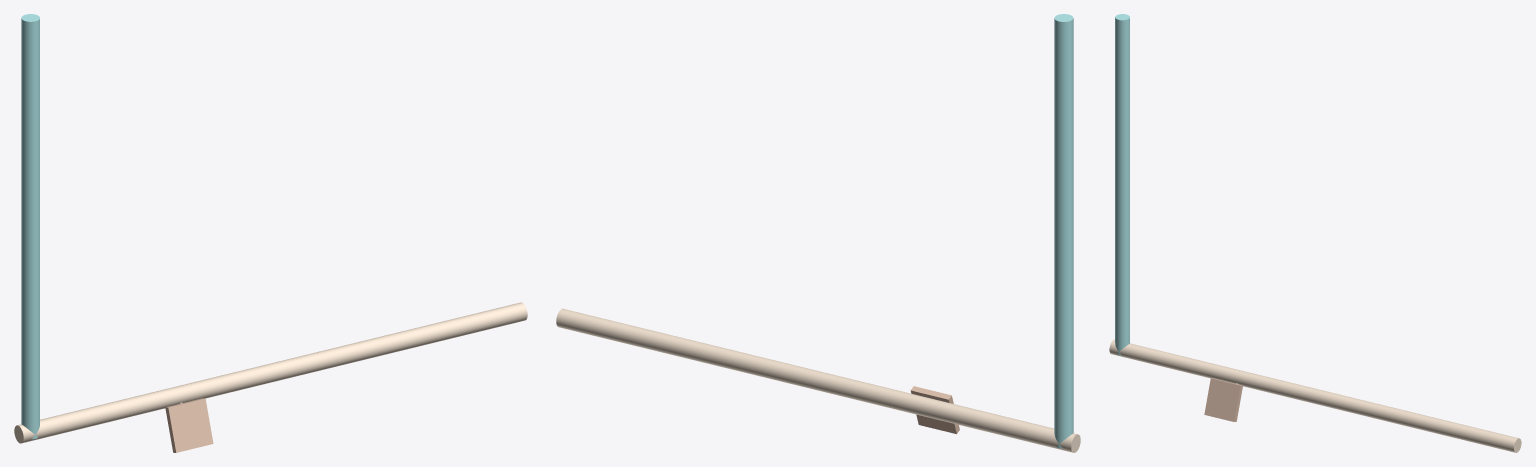
The picture shows the model from 3 angles, left to right: view 1: azimuth 30°, elevation 25°; view 2: azimuth 150°, elevation 25°; view 3: azimuth 330°, elevation 25°; orthographic projection. The views are drawn at different scales.
Parts seen in each view (by area): view 1: 圆柱.1, 圆柱, 立方体.1; view 2: 圆柱.1, 圆柱, 立方体.1; view 3: 圆柱.1, 圆柱, 立方体.1.
Part boxes in pixels (x1,y1,x2,y2): 圆柱.1: (14,302,527,443); 圆柱: (21,14,39,439); 立方体.1: (165,398,213,452); 圆柱.1: (556,308,1080,452); 圆柱: (1054,14,1073,448); 立方体.1: (910,386,959,434); 圆柱.1: (1109,339,1521,452); 圆柱: (1115,14,1129,355); 立方体.1: (1204,378,1242,421).
Bounding box in the file's own units: 192 × 164 × 17.52.
